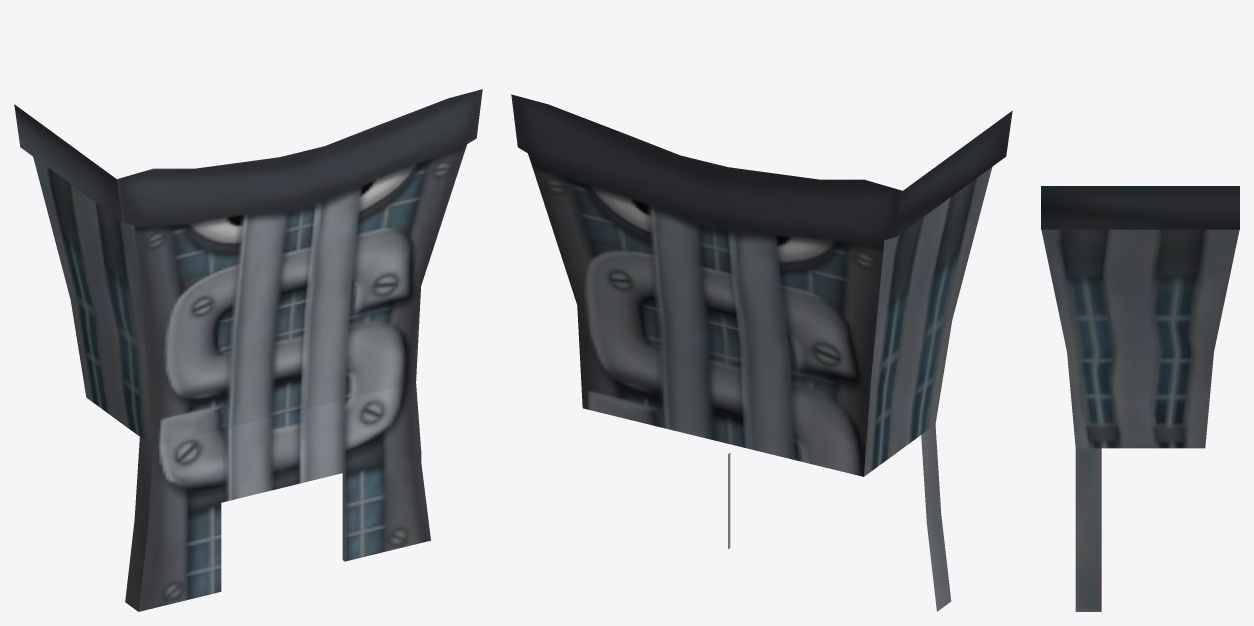
The model's file is money.glb.
3 renders of one model, left to right at view 1: azimuth 30°, elevation 25°; view 2: azimuth 150°, elevation 25°; view 3: azimuth 270°, elevation 25°, orthographic. The views are drawn at different scales.
Visible parts, largest first — view 1: suit_landmark_new_money_building, suit_landmark_money_front; view 2: suit_landmark_new_money_building; view 3: suit_landmark_new_money_building.
Part boxes in pixels (x1,y1,x2,y2): suit_landmark_new_money_building: [14, 89, 482, 611]; suit_landmark_money_front: [148, 382, 421, 520]; suit_landmark_new_money_building: [511, 94, 1012, 611]; suit_landmark_new_money_building: [1041, 186, 1239, 611].
Size of the model in its own units: 47.33 by 56.51 by 23.
4 materials, 3 textured.
